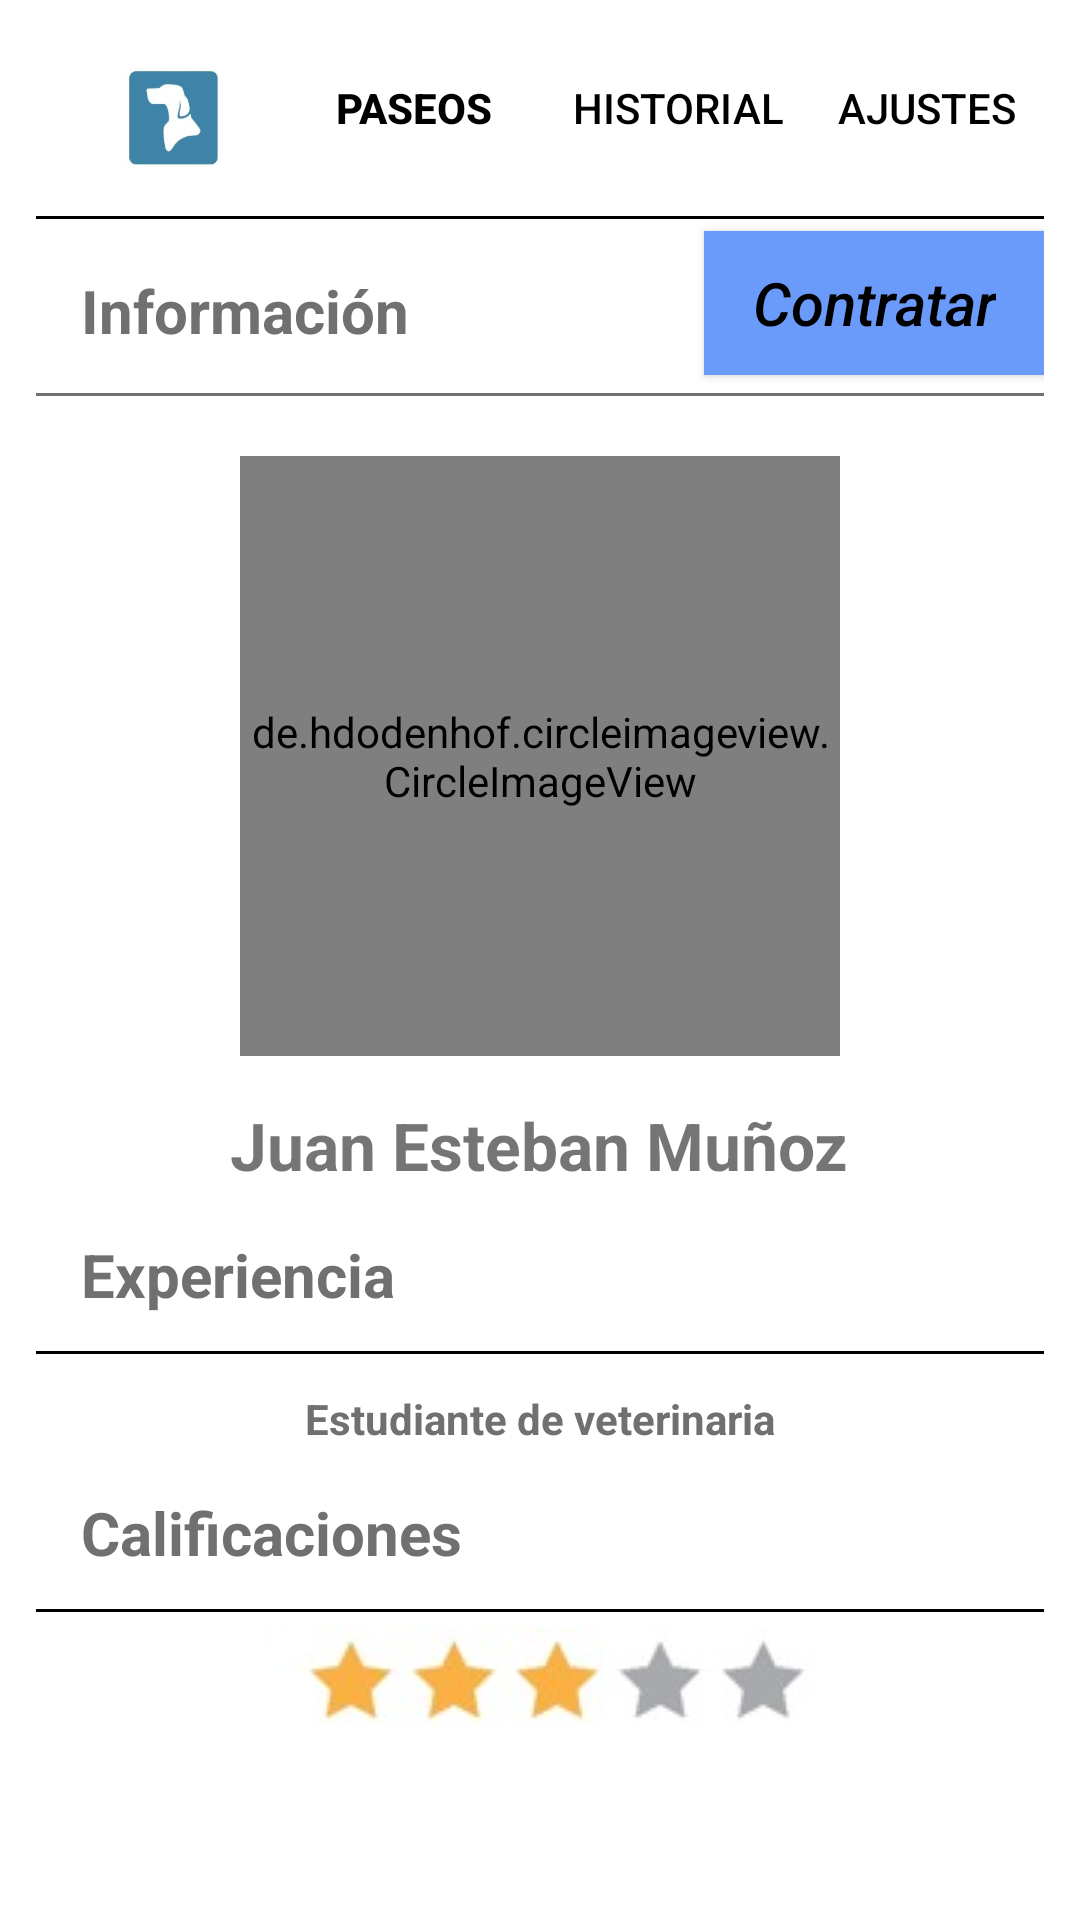

Screen size 1080*1920. Icon name, then its box in pixels as (x1, y1, x2, y2):
loguito: (129, 71, 218, 165)
